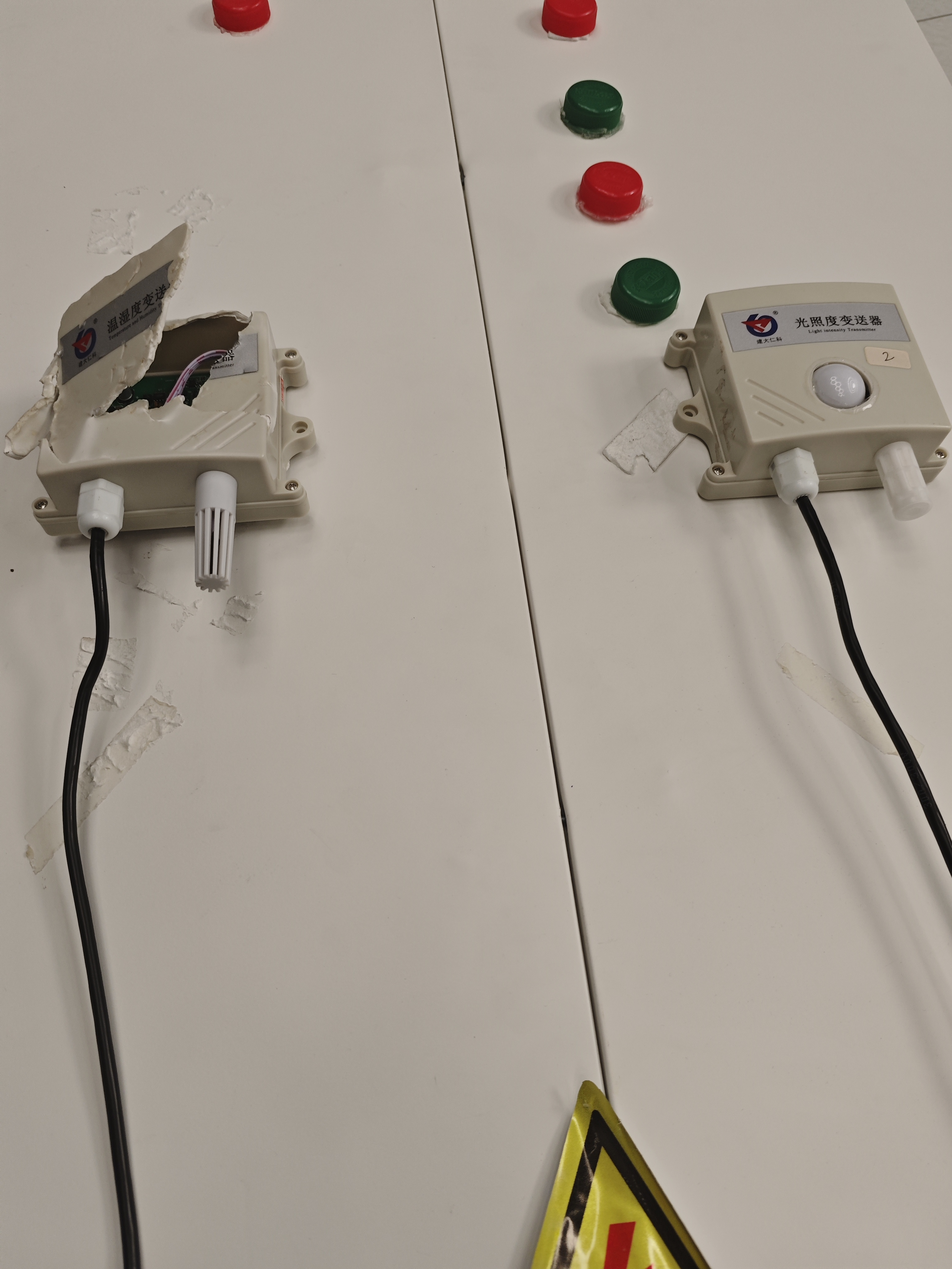red_warning: (569, 151, 653, 237)
sensor_damage: (15, 192, 333, 595)
